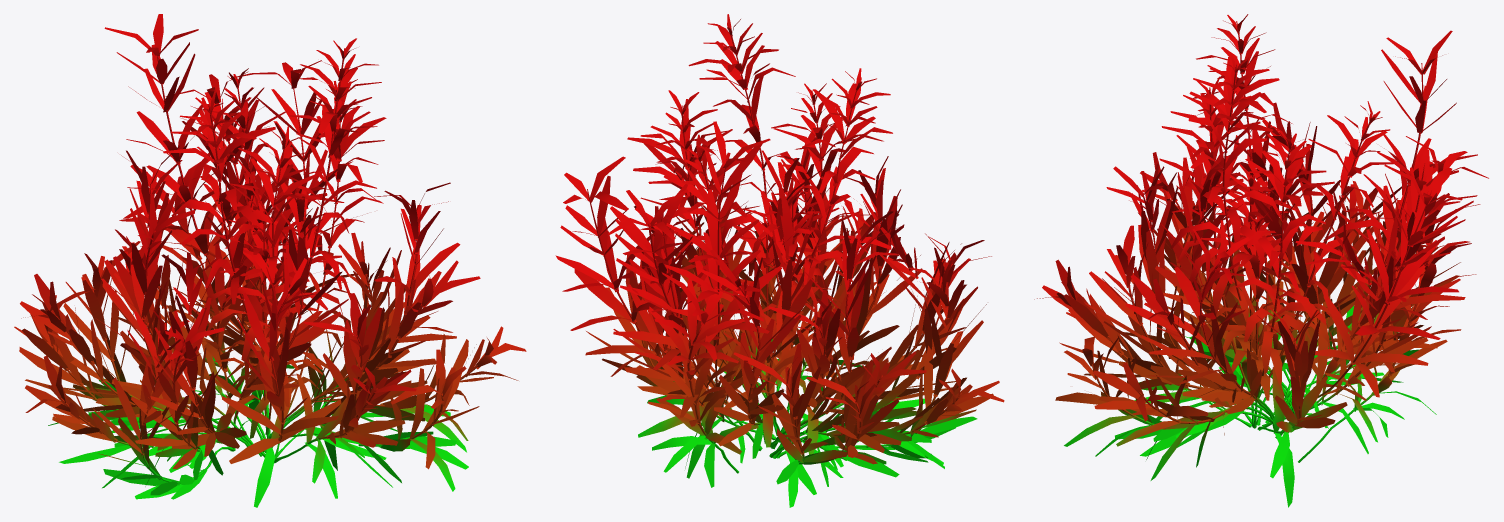
File: Var3_LOD2.fbx
3 renders of one model, left to right at view 1: azimuth 30°, elevation 25°; view 2: azimuth 150°, elevation 25°; view 3: azimuth 270°, elevation 25°, orthographic. The views are drawn at different scales.
Visible parts, largest first — view 1: _w4fa_Var3_LOD2; view 2: _w4fa_Var3_LOD2; view 3: _w4fa_Var3_LOD2.
Part boxes in pixels (bbox=[...]): _w4fa_Var3_LOD2: bbox=[14, 14, 526, 507]; _w4fa_Var3_LOD2: bbox=[555, 14, 1004, 507]; _w4fa_Var3_LOD2: bbox=[1034, 14, 1488, 507].
Size of the model in its own units: 33.13 by 32.88 by 30.78.
